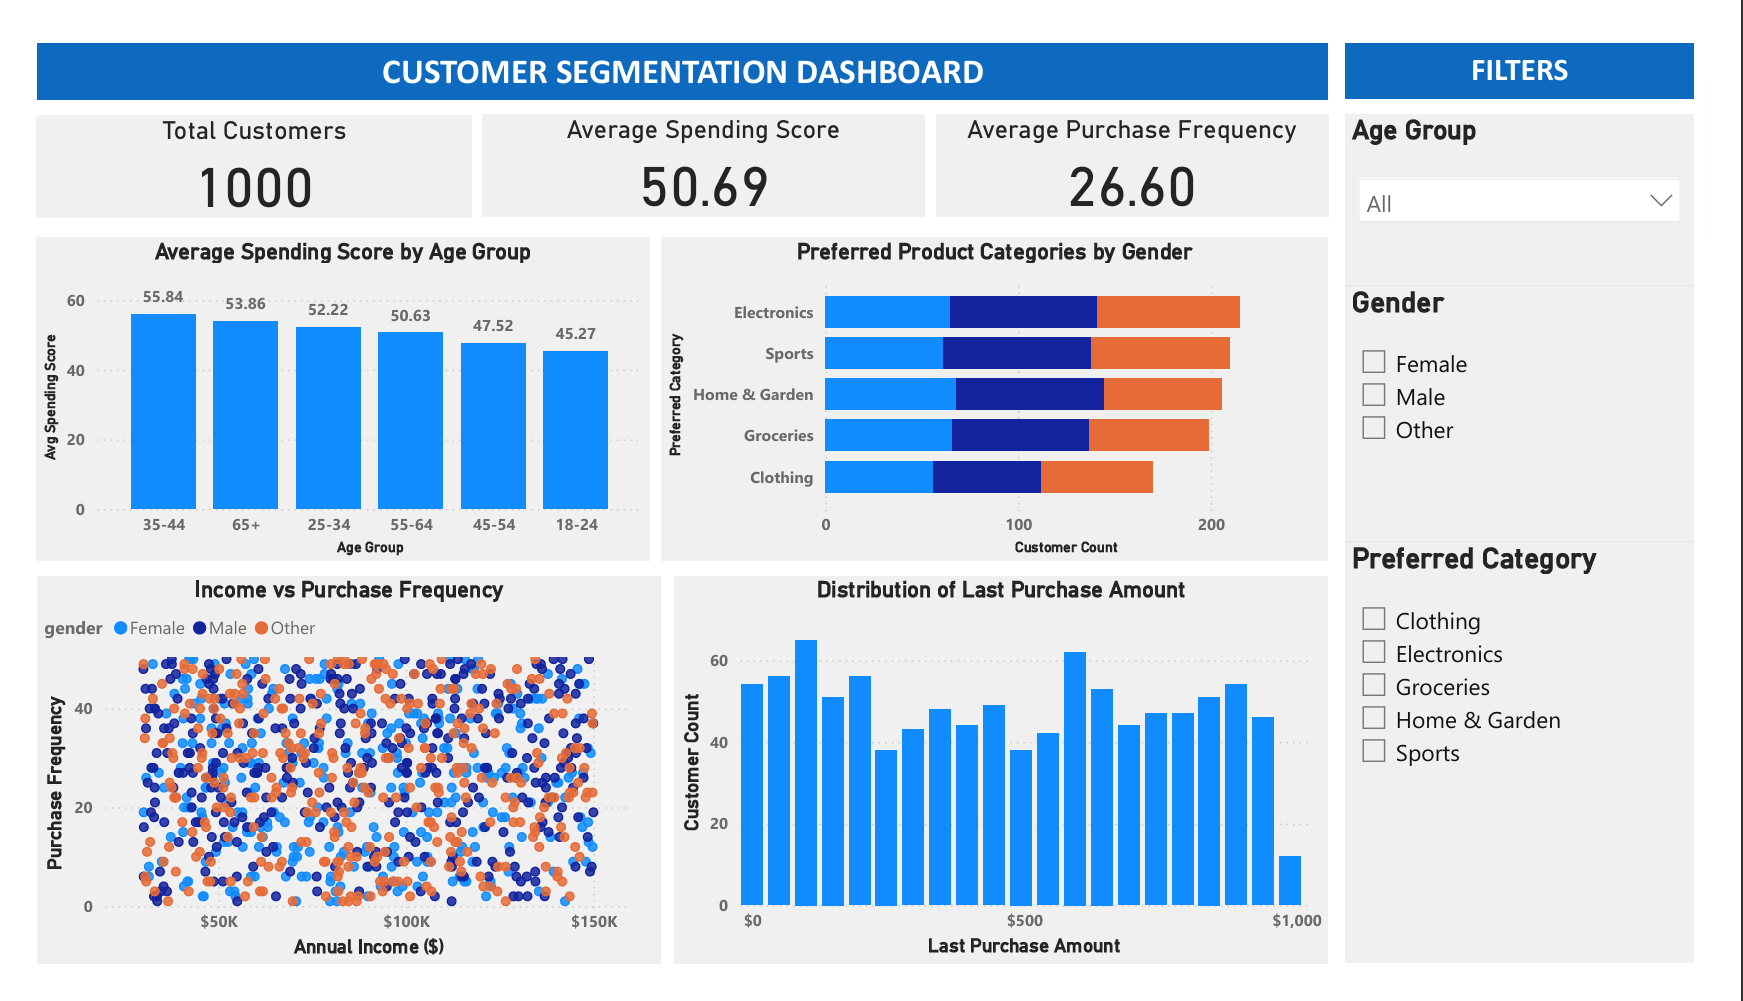

This screenshot's page, from the dashboard's own definition file:
{"tool":"powerbi","page":{"name":"Dashboard","canvas":[1280,720],"ordinal":0},"visuals":[{"type":"textbox","box":[9.6,0,1270.7,53.5],"z":0},{"type":"card","title":"Total Customers","fields":{"Values":["Count(customer_segmentation_data.id)"]},"box":[9,66.3,331,78],"z":0,"group":"g1"},{"type":"textbox","box":[10,11.2,981.2,42.5],"z":1000},{"type":"card","title":"Average Spending Score","fields":{"Values":["Avg(customer_segmentation_data.spending_score)"]},"box":[347.8,65.4,336,77.8],"z":1000,"group":"g1"},{"type":"textbox","box":[1003.8,11.2,265,41.2],"z":2000},{"type":"card","title":"Average Purchase Frequency","fields":{"Values":["Avg(customer_segmentation_data.purchase_frequency)"]},"box":[692.7,65.4,298,78],"z":2000,"group":"g1"},{"type":"group","id":"g1","title":"Group 1","box":[9,65.4,981.7,77.8],"z":3000},{"type":"clusteredColumnChart","title":"Average Spending Score by Age Group","fields":{"Category":["customer_segmentation_data.Age Group"],"Y":["Avg(customer_segmentation_data.spending_score)"]},"box":[9,158.9,465.5,245.7],"z":4000},{"type":"slicer","title":"Gender","fields":{"Values":["customer_segmentation_data.gender"]},"box":[1003.8,195,265,195],"z":4000,"group":"g2"},{"type":"barChart","title":"Preferred Product Categories by Gender","fields":{"Category":["customer_segmentation_data.preferred_category"],"Series":["customer_segmentation_data.gender"],"Y":["CountNonNull(customer_segmentation_data.gender)"]},"box":[483.8,158.8,507.5,246.2],"z":5000},{"type":"slicer","title":"Preferred Category","fields":{"Values":["customer_segmentation_data.preferred_category"]},"box":[1003.8,390,265,320],"z":5000,"group":"g2"},{"type":"slicer","title":"Age Group","fields":{"Values":["customer_segmentation_data.Age Group"]},"box":[1003.8,65,265,130],"z":6000,"group":"g2"},{"type":"scatterChart","title":" Income vs Purchase Frequency","fields":{"Y":["customer_segmentation_data.purchase_frequency"],"X":["customer_segmentation_data.income"],"Series":["customer_segmentation_data.gender"]},"box":[10,416.2,473.8,293.8],"z":6000},{"type":"clusteredColumnChart","title":"Distribution of Last Purchase Amount","fields":{"Y":["CountNonNull(customer_segmentation_data.id)"],"Category":["customer_segmentation_data.last_purchase_amount (bins)"]},"box":[493.8,416.2,497.5,293.8],"z":7000},{"type":"group","id":"g2","title":"Group 2","box":[1003.8,65,265,645],"z":8000}]}

Visuals, with their boxes in screenshot pixels (x1, y1, x2, y2), scaled from the page's 1280x720 canvas onto the 1743x1001 screenshot:
textbox: [x1=13, y1=0, x2=1742, y2=74]
"Total Customers" card: [x1=12, y1=92, x2=463, y2=201]
textbox: [x1=14, y1=16, x2=1350, y2=75]
"Average Spending Score" card: [x1=474, y1=91, x2=931, y2=199]
textbox: [x1=1367, y1=16, x2=1728, y2=73]
"Average Purchase Frequency" card: [x1=943, y1=91, x2=1349, y2=199]
"Group 1" group: [x1=12, y1=91, x2=1349, y2=199]
"Average Spending Score by Age Group" clusteredColumnChart: [x1=12, y1=221, x2=646, y2=563]
"Gender" slicer: [x1=1367, y1=271, x2=1728, y2=542]
"Preferred Product Categories by Gender" barChart: [x1=659, y1=221, x2=1350, y2=563]
"Preferred Category" slicer: [x1=1367, y1=542, x2=1728, y2=987]
"Age Group" slicer: [x1=1367, y1=90, x2=1728, y2=271]
" Income vs Purchase Frequency" scatterChart: [x1=14, y1=579, x2=659, y2=987]
"Distribution of Last Purchase Amount" clusteredColumnChart: [x1=672, y1=579, x2=1350, y2=987]
"Group 2" group: [x1=1367, y1=90, x2=1728, y2=987]
